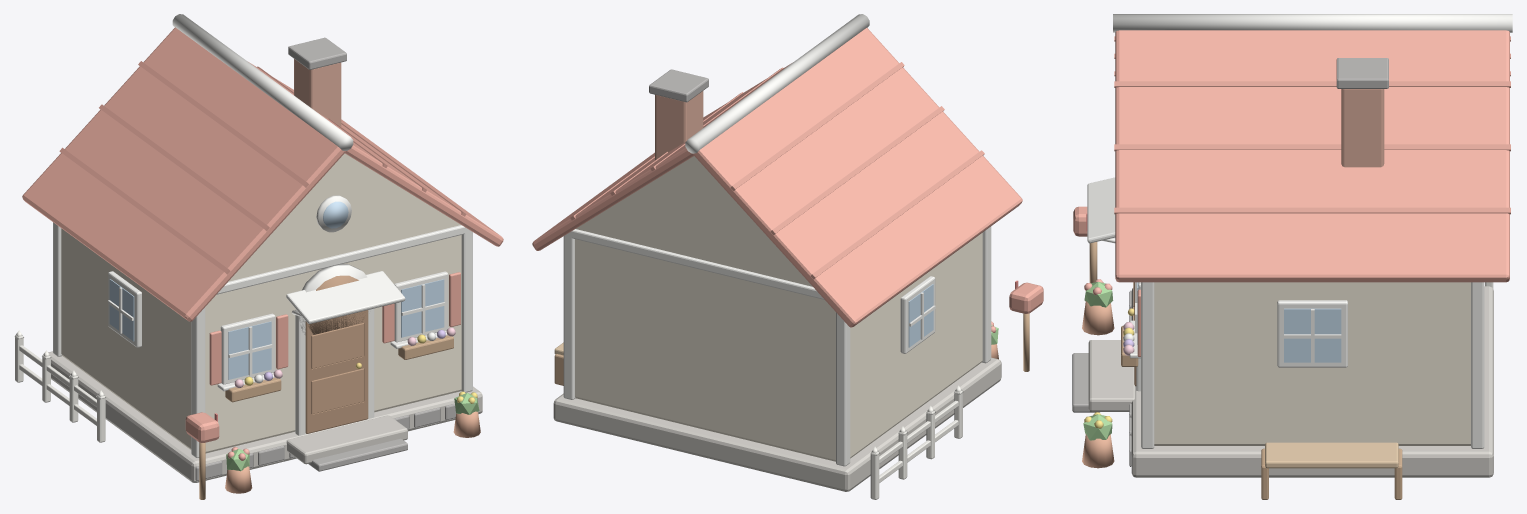
The model's file is casa_jogadora.glb.
3 renders of one model, left to right at view 1: azimuth 30°, elevation 25°; view 2: azimuth 150°, elevation 25°; view 3: azimuth 270°, elevation 25°, orthographic. The views are drawn at different scales.
Parts seen in each view (by area): view 1: casa_jogadora; view 2: casa_jogadora; view 3: casa_jogadora.
Part boxes in pixels (bbox=[...]): casa_jogadora: bbox=[14, 14, 503, 499]; casa_jogadora: bbox=[532, 14, 1043, 499]; casa_jogadora: bbox=[1072, 14, 1512, 499].
Size of the model in its own units: 5.15 by 4.4 by 4.62.
